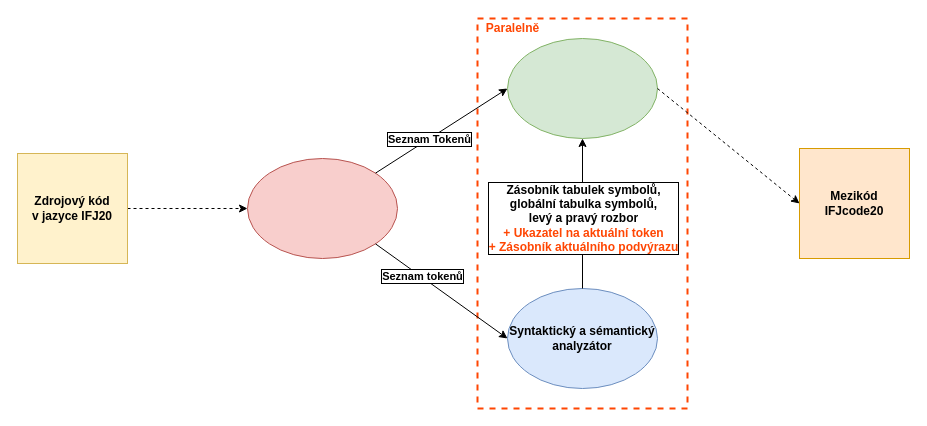
This 927x426 diagram has some shape labels left out. The centre of each missing label's shape, as x and y in pixels:
Generátor mezikódu: point 582,88
Lexikální analyzátor: point 322,208
